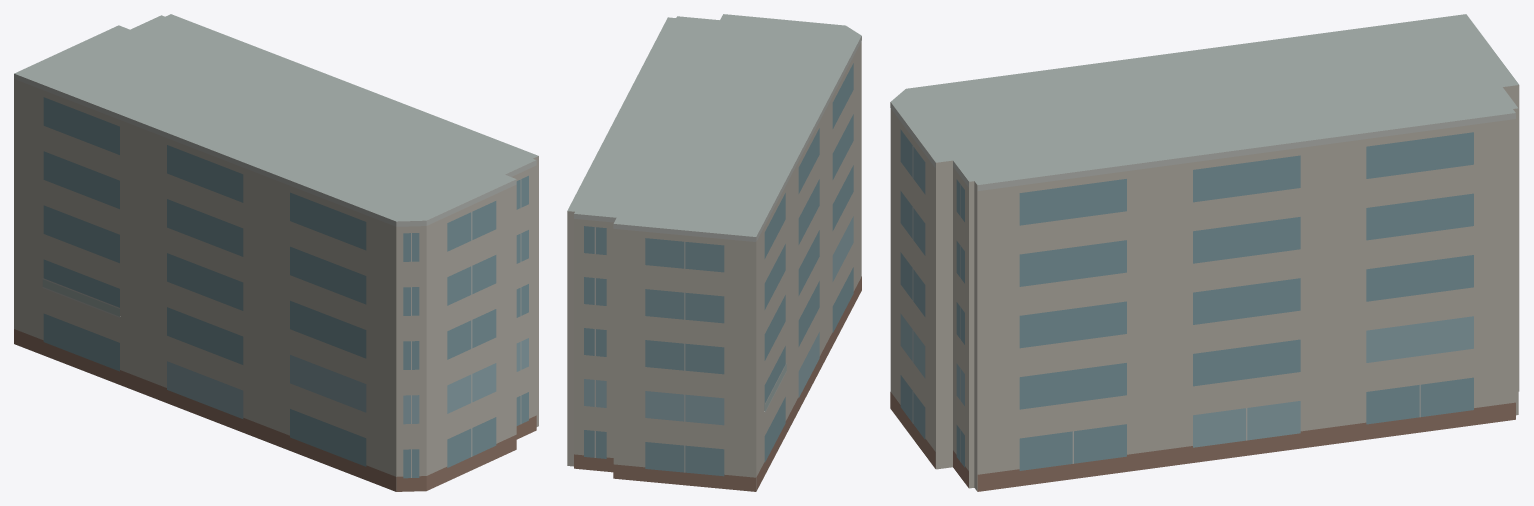
File: survey-upis-32620767.glb
3 renders of one model, left to right at view 1: azimuth 30°, elevation 25°; view 2: azimuth 150°, elevation 25°; view 3: azimuth 270°, elevation 25°, orthographic. The views are drawn at different scales.
Visible parts, largest first — view 1: survey-upis-32620767.tmp; view 2: survey-upis-32620767.tmp; view 3: survey-upis-32620767.tmp.
Boxes of the visible parts, x1=… form: survey-upis-32620767.tmp: x1=14, y1=14, x2=538, y2=491; survey-upis-32620767.tmp: x1=567, y1=14, x2=861, y2=491; survey-upis-32620767.tmp: x1=890, y1=14, x2=1519, y2=491.
Bounding box in the file's own units: 14.85 × 12.4 × 23.06.
